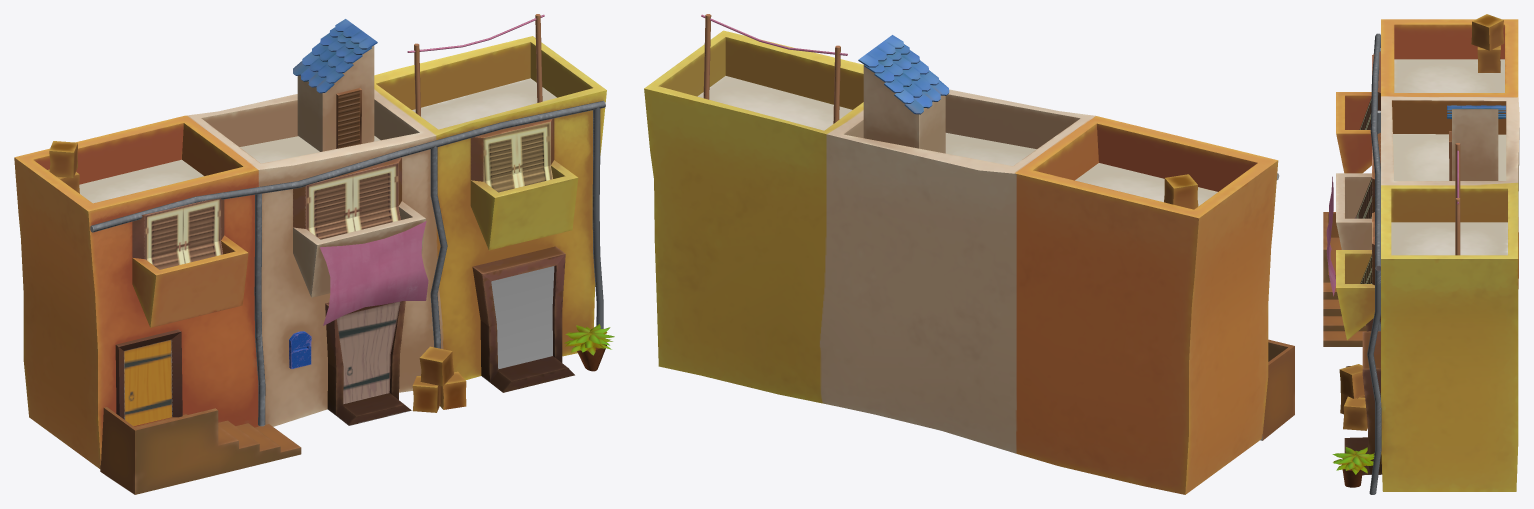
Rendered from casaHilera.fbx.
3 renders of one model, left to right at view 1: azimuth 30°, elevation 25°; view 2: azimuth 150°, elevation 25°; view 3: azimuth 270°, elevation 25°, orthographic. The views are drawn at different scales.
Visible parts, largest first — view 1: Sabana; view 2: Sabana; view 3: Sabana.
Part boxes in pixels (<box>): Sabana: <box>14,14,614,494</box>; Sabana: <box>644,14,1294,494</box>; Sabana: <box>1323,14,1519,494</box>.
Size of the model in its own units: 409 by 250 by 145.
